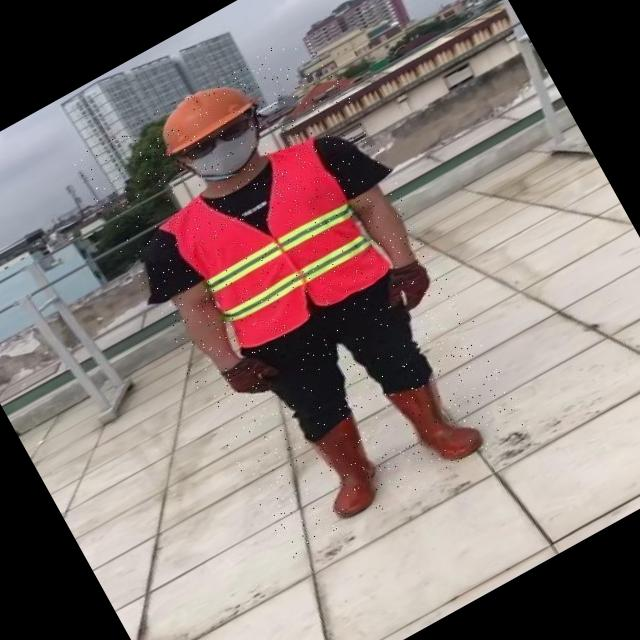hard_hat: (144, 66, 262, 162)
safety_vest: (154, 130, 396, 362)
vehicle: (69, 27, 532, 560)
work_boots: (383, 364, 488, 480), (296, 414, 394, 524)
